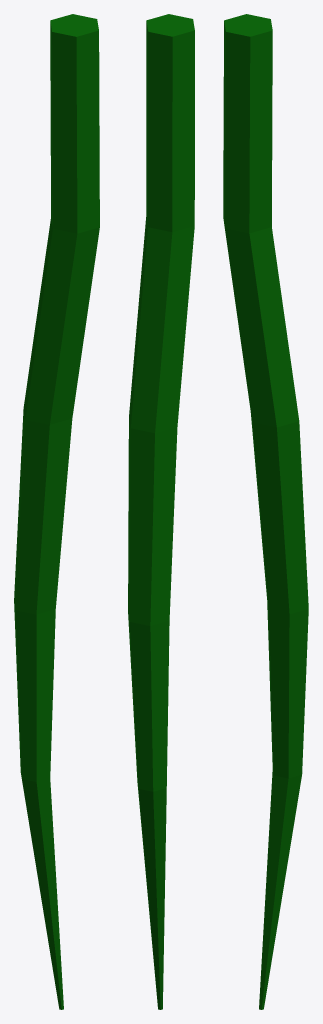
Rendered from vine_group_1.glb.
The picture shows the model from 3 angles, left to right: view 1: azimuth 90°, elevation 25°; view 2: azimuth 150°, elevation 25°; view 3: azimuth 270°, elevation 25°; orthographic projection.
Visible parts, largest first — view 1: vine-col; view 2: vine-col; view 3: vine-col.
Boxes of the visible parts, left/top/right/bottom form: vine-col: left=14, top=14, right=99, bottom=1009; vine-col: left=128, top=14, right=194, bottom=1009; vine-col: left=223, top=14, right=308, bottom=1009.
Bounding box in the file's own units: 0.2313 × 4.25 × 0.3362.
